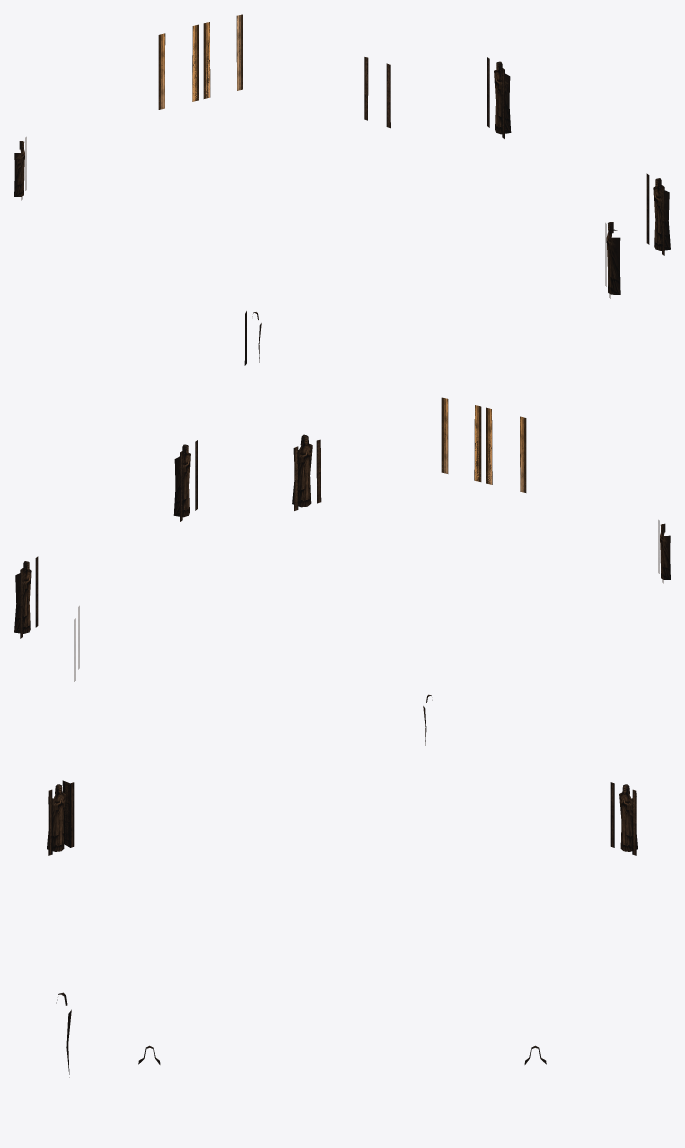
Rendered from test-niches_windows-opt.glb.
3 renders of one model, top to bottom at view 1: azimuth 30°, elevation 25°; view 2: azimuth 150°, elevation 25°; view 3: azimuth 270°, elevation 25°, orthographic. The views are drawn at different scales.
Parts seen in each view (by area): view 1: windows_niches; view 2: windows_niches; view 3: windows_niches.
Boxes of the visible parts, bbox=[...] form: windows_niches: bbox=[14, 14, 670, 365]; windows_niches: bbox=[14, 397, 670, 745]; windows_niches: bbox=[47, 780, 637, 1077].
Size of what is drawn, in the model's own units: 286 by 75.82 by 295.
3 materials, 3 textured.
